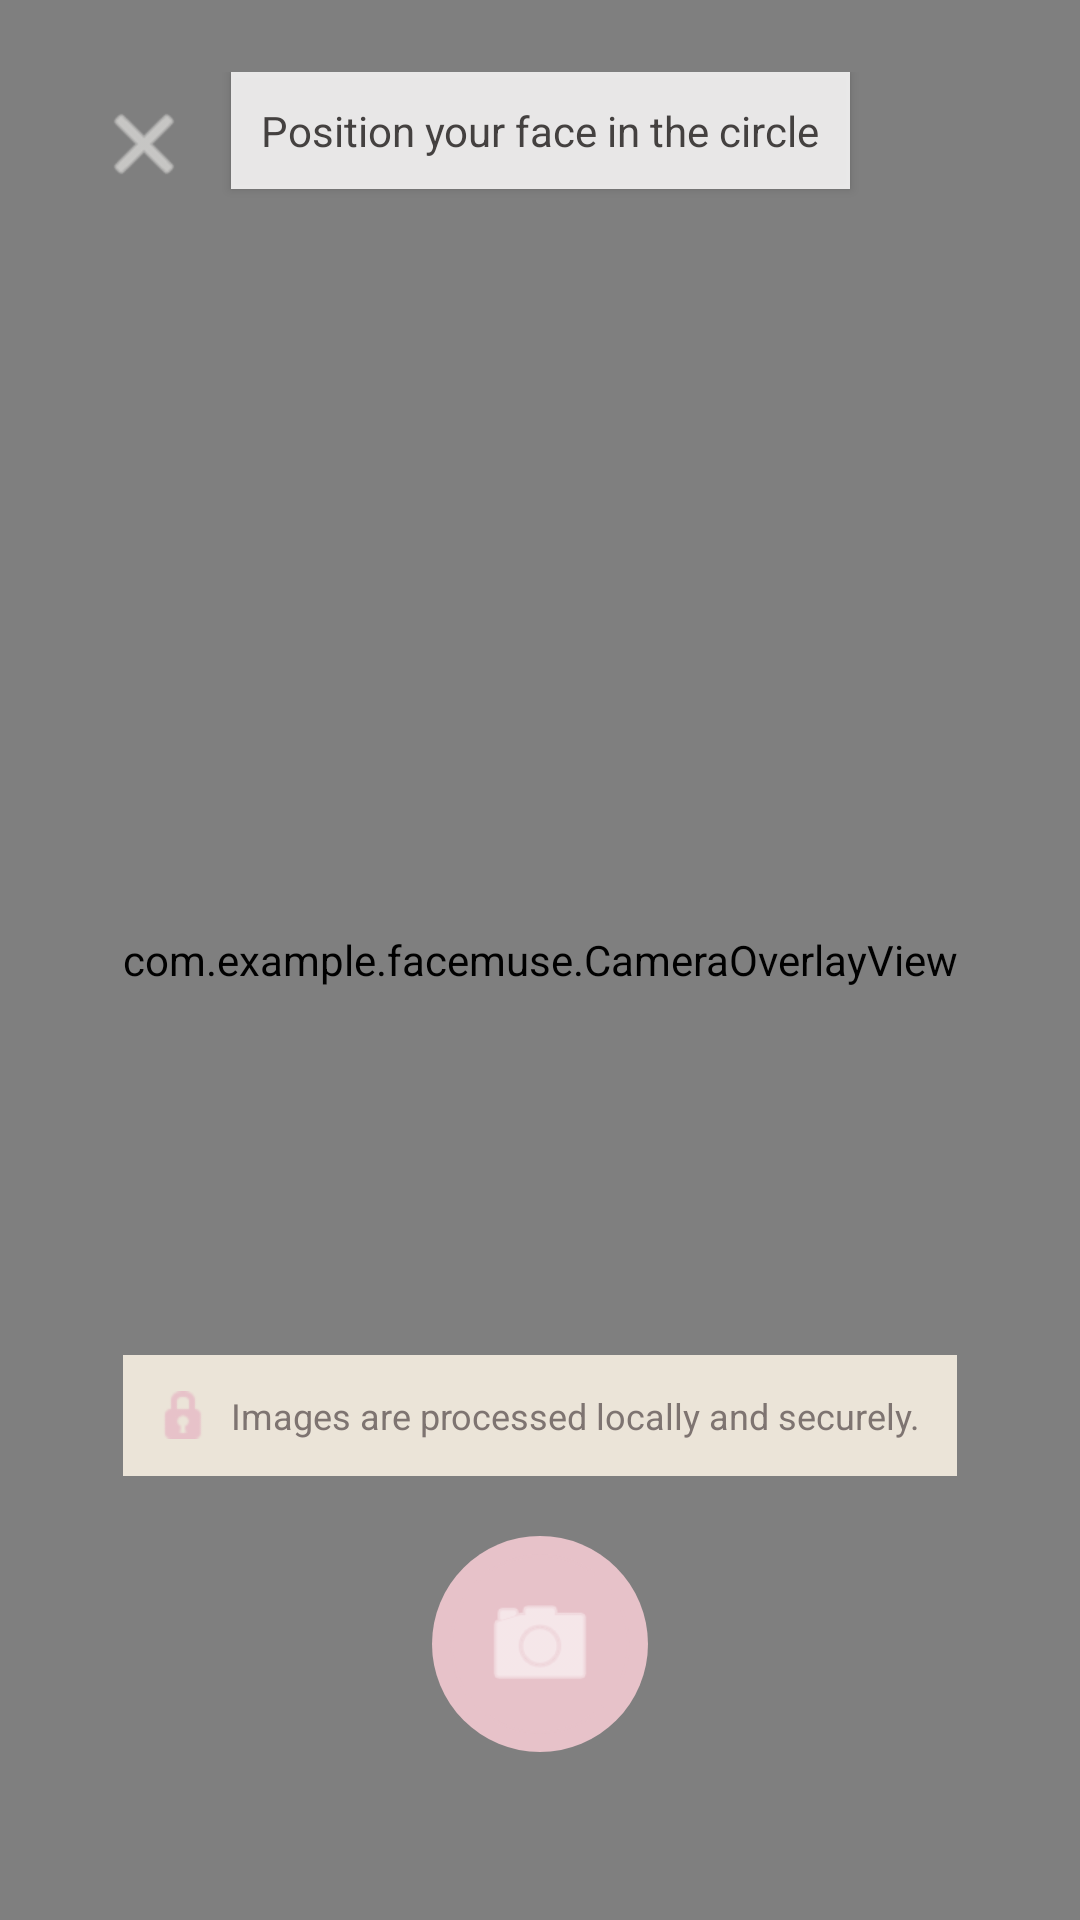

Icons on this 1080 × 1920 Android screen, each with its box as (x1=x1, y1=y1, x2=x2, y2=y2):
close clear cancel: (x1=115, y1=115, x2=173, y2=173)
